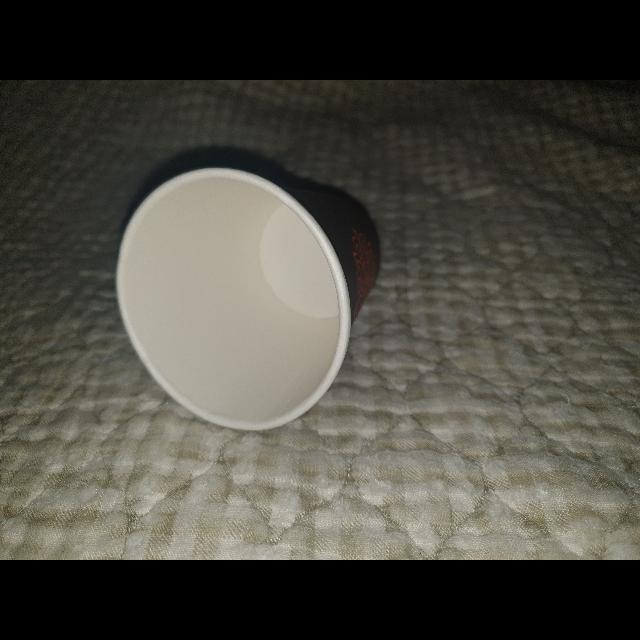trash: (109, 152, 389, 442)
